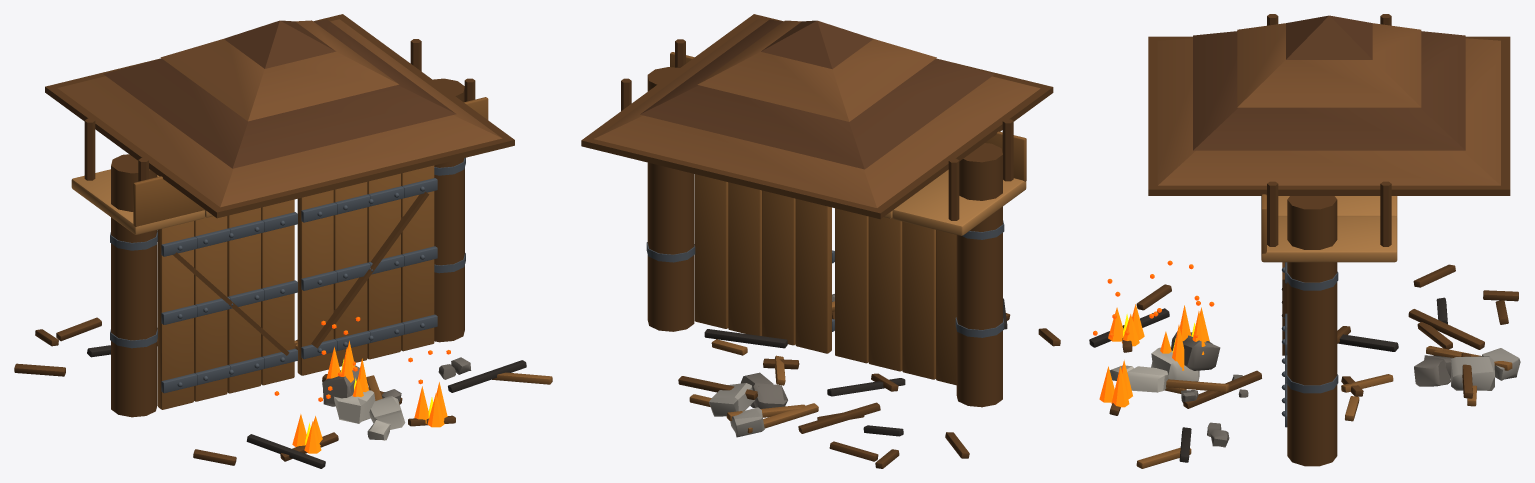
Rendered from brama_etap2.glb.
3 renders of one model, left to right at view 1: azimuth 30°, elevation 25°; view 2: azimuth 150°, elevation 25°; view 3: azimuth 270°, elevation 25°, orthographic. The views are drawn at different scales.
Parts seen in each view (by area): view 1: brama_etap2; view 2: brama_etap2; view 3: brama_etap2.
Boxes of the visible parts, left/top/right/bottom form: brama_etap2: left=14, top=14, right=552, bottom=468; brama_etap2: left=581, top=14, right=1060, bottom=468; brama_etap2: left=1089, top=14, right=1520, bottom=468.
Bounding box in the file's own units: 8.42 × 7.16 × 7.61.
